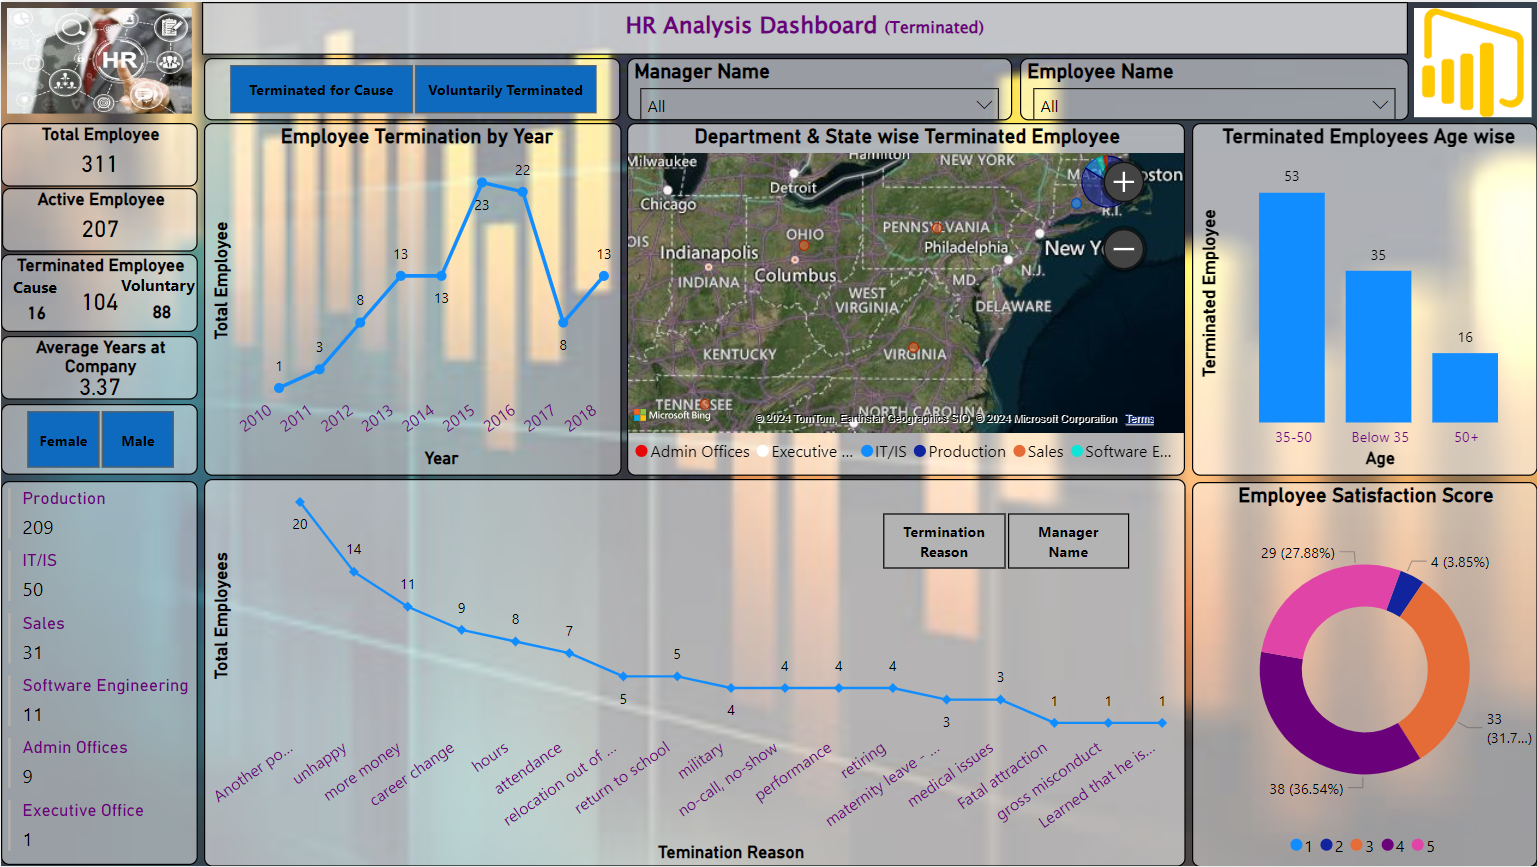

The page's visual inventory and layout, read from the dashboard file:
{"tool":"powerbi","page":{"name":"Page 3","canvas":[1280,720],"ordinal":2},"visuals":[{"type":"donutChart","title":"Employee Satisfaction Score","fields":{"Category":["HRDataset_v14(1).EmpSatisfaction","HRDataset_v14(1).ManagerName","HRDataset_v14(1).Department"],"Y":["HRDataset_v14(1).Terminated"]},"box":[992.5,399.7,287.9,320.7],"z":0},{"type":"lineChart","title":"Employee Termination by Year","fields":{"Category":["HRDataset_v14(1).Year_Termineted"],"Y":["CountNonNull(HRDataset_v14(1).EmpID)"]},"box":[169.4,100.5,347.8,293.6],"z":1000},{"type":"card","title":"Average Years at Company","fields":{"Values":["Avg(HRDataset_v14(1).YearDifference1)"]},"box":[0,278,164.3,53],"z":2000},{"type":"slicer","fields":{"Values":["HRDataset_v14(1).Sex"]},"box":[0,334.9,164.3,59],"z":3000},{"type":"multiRowCard","fields":{"Values":["HRDataset_v14(1).Department","CountNonNull(HRDataset_v14(1).EmpID)"]},"box":[0,399.5,164.3,320.5],"z":4000},{"type":"card","title":"Total Employee","fields":{"Values":["HRDataset_v14(1).TotalEmp"]},"box":[0,100.5,164.3,53],"z":5000},{"type":"card","title":"Terminated Employee","fields":{"Values":["HRDataset_v14(1).Terminated"]},"box":[0,210,164.3,64.6],"z":6000},{"type":"card","title":"Active Employee","fields":{"Values":["HRDataset_v14(1).Active"]},"box":[0.9,155.3,163.4,53],"z":7000},{"type":"textbox","box":[167.9,0,1004.6,44],"z":8000},{"type":"image","box":[1172.5,0,107.7,100.5],"z":9000},{"type":"slicer","title":"Employee Name","fields":{"Values":["HRDataset_v14(1).Employee Name"]},"box":[849.1,46.6,323.9,51.5],"z":10000},{"type":"slicer","title":"Manager Name","fields":{"Values":["HRDataset_v14(1).ManagerName"]},"box":[521.5,46.6,321.5,51.5],"z":11000},{"type":"image","box":[0,0,164.3,97.9],"z":12000},{"type":"map","title":"Department & State wise Terminated Employee","fields":{"Category":["Full_StateName.Sate_FullName"],"Series":["HRDataset_v14(1).Department"],"Size":["HRDataset_v14(1).Terminated"]},"box":[521.7,100.5,465.2,293.6],"z":13000},{"type":"card","fields":{"Values":["HRDataset_v14(1).TerminatedForCause"]},"box":[7.2,243,44,33.2],"z":14000},{"type":"card","fields":{"Values":["HRDataset_v14(1).VoluntaryTermination"]},"box":[112.2,243,43.1,32.3],"z":15000},{"type":"textbox","box":[100,227,70,19.8],"z":16000},{"type":"textbox","box":[10,228,45,19.8],"z":17000},{"type":"lineChart","fields":{"Category":["HRDataset_v14(1).TermReason","HRDataset_v14(1).ManagerName"],"Y":["CountNonNull(HRDataset_v14(1).EmpID)"]},"box":[169.4,397.5,817.5,322.9],"z":18000},{"type":"lineClusteredColumnComboChart","title":"Terminated Employees Age wise","fields":{"Y":["CountNonNull(HRDataset_v14(1).Year_Termineted)"],"Category":["HRDataset_v14(1).Age Group"]},"box":[992.5,100.5,287.9,293.6],"z":19000},{"type":"slicer","fields":{"Values":["HRDataset_v14(1).EmploymentStatus"]},"box":[169.3,46.6,347.2,51.5],"z":20000},{"type":"slicer","fields":{"Values":["Manager_TermReason.Manager_TermReason"]},"box":[714.1,424.5,245,50.3],"z":21000}]}

Visuals, with their boxes in screenshot pixels (x1, y1, x2, y2), scaled from the page's 1280x720 canvas onto the 1537x867 screenshot:
"Employee Satisfaction Score" donutChart: (1192,481,1536,866)
"Employee Termination by Year" lineChart: (203,121,621,475)
"Average Years at Company" card: (0,335,197,399)
slicer - HRDataset_v14(1).Sex: (0,403,197,474)
multiRowCard - HRDataset_v14(1).Department x CountNonNull(HRDataset_v14(1).EmpID): (0,481,197,866)
"Total Employee" card: (0,121,197,185)
"Terminated Employee" card: (0,253,197,331)
"Active Employee" card: (1,187,197,251)
textbox: (202,0,1408,53)
image: (1408,0,1536,121)
"Employee Name" slicer: (1020,56,1409,118)
"Manager Name" slicer: (626,56,1012,118)
image: (0,0,197,118)
"Department & State wise Terminated Employee" map: (626,121,1185,475)
card - HRDataset_v14(1).TerminatedForCause: (9,293,61,333)
card - HRDataset_v14(1).VoluntaryTermination: (135,293,186,332)
textbox: (120,273,204,297)
textbox: (12,275,66,298)
lineChart - HRDataset_v14(1).TermReason x HRDataset_v14(1).ManagerName: (203,479,1185,866)
"Terminated Employees Age wise" lineClusteredColumnComboChart: (1192,121,1536,475)
slicer - HRDataset_v14(1).EmploymentStatus: (203,56,620,118)
slicer - Manager_TermReason.Manager_TermReason: (857,511,1152,572)
